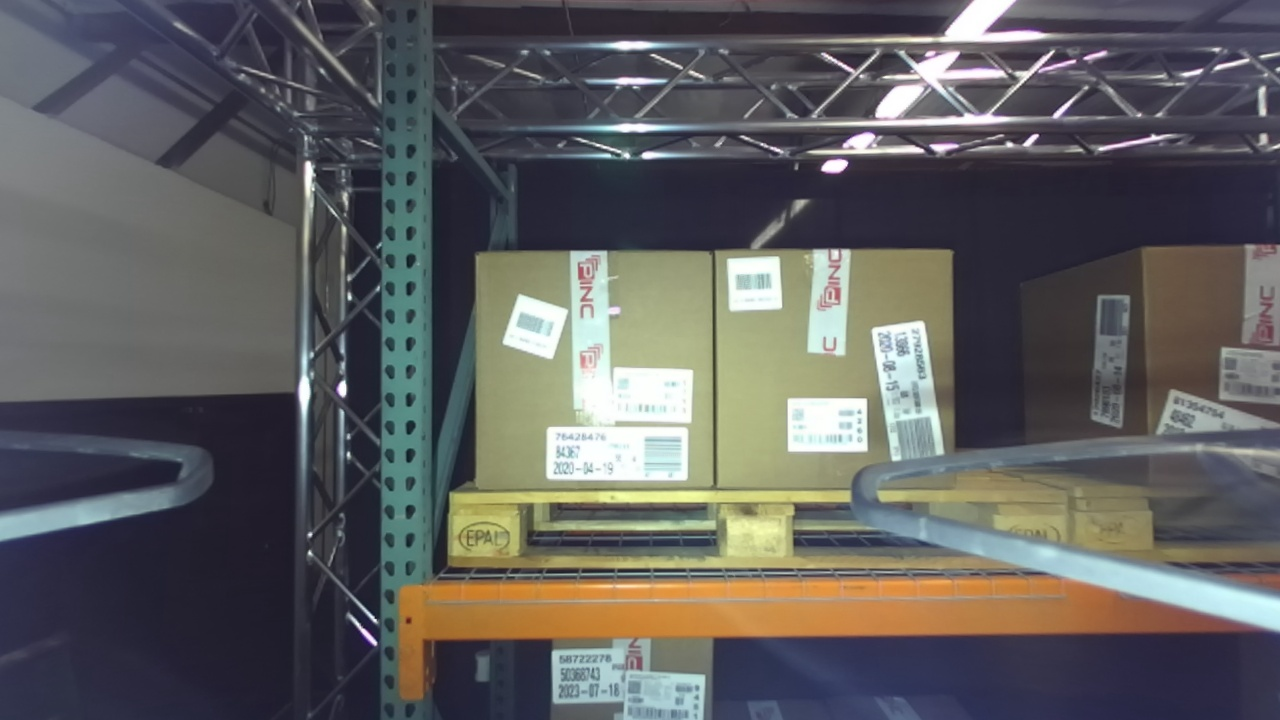box: (460, 231, 734, 517), (693, 226, 965, 513), (1118, 225, 1280, 496)
